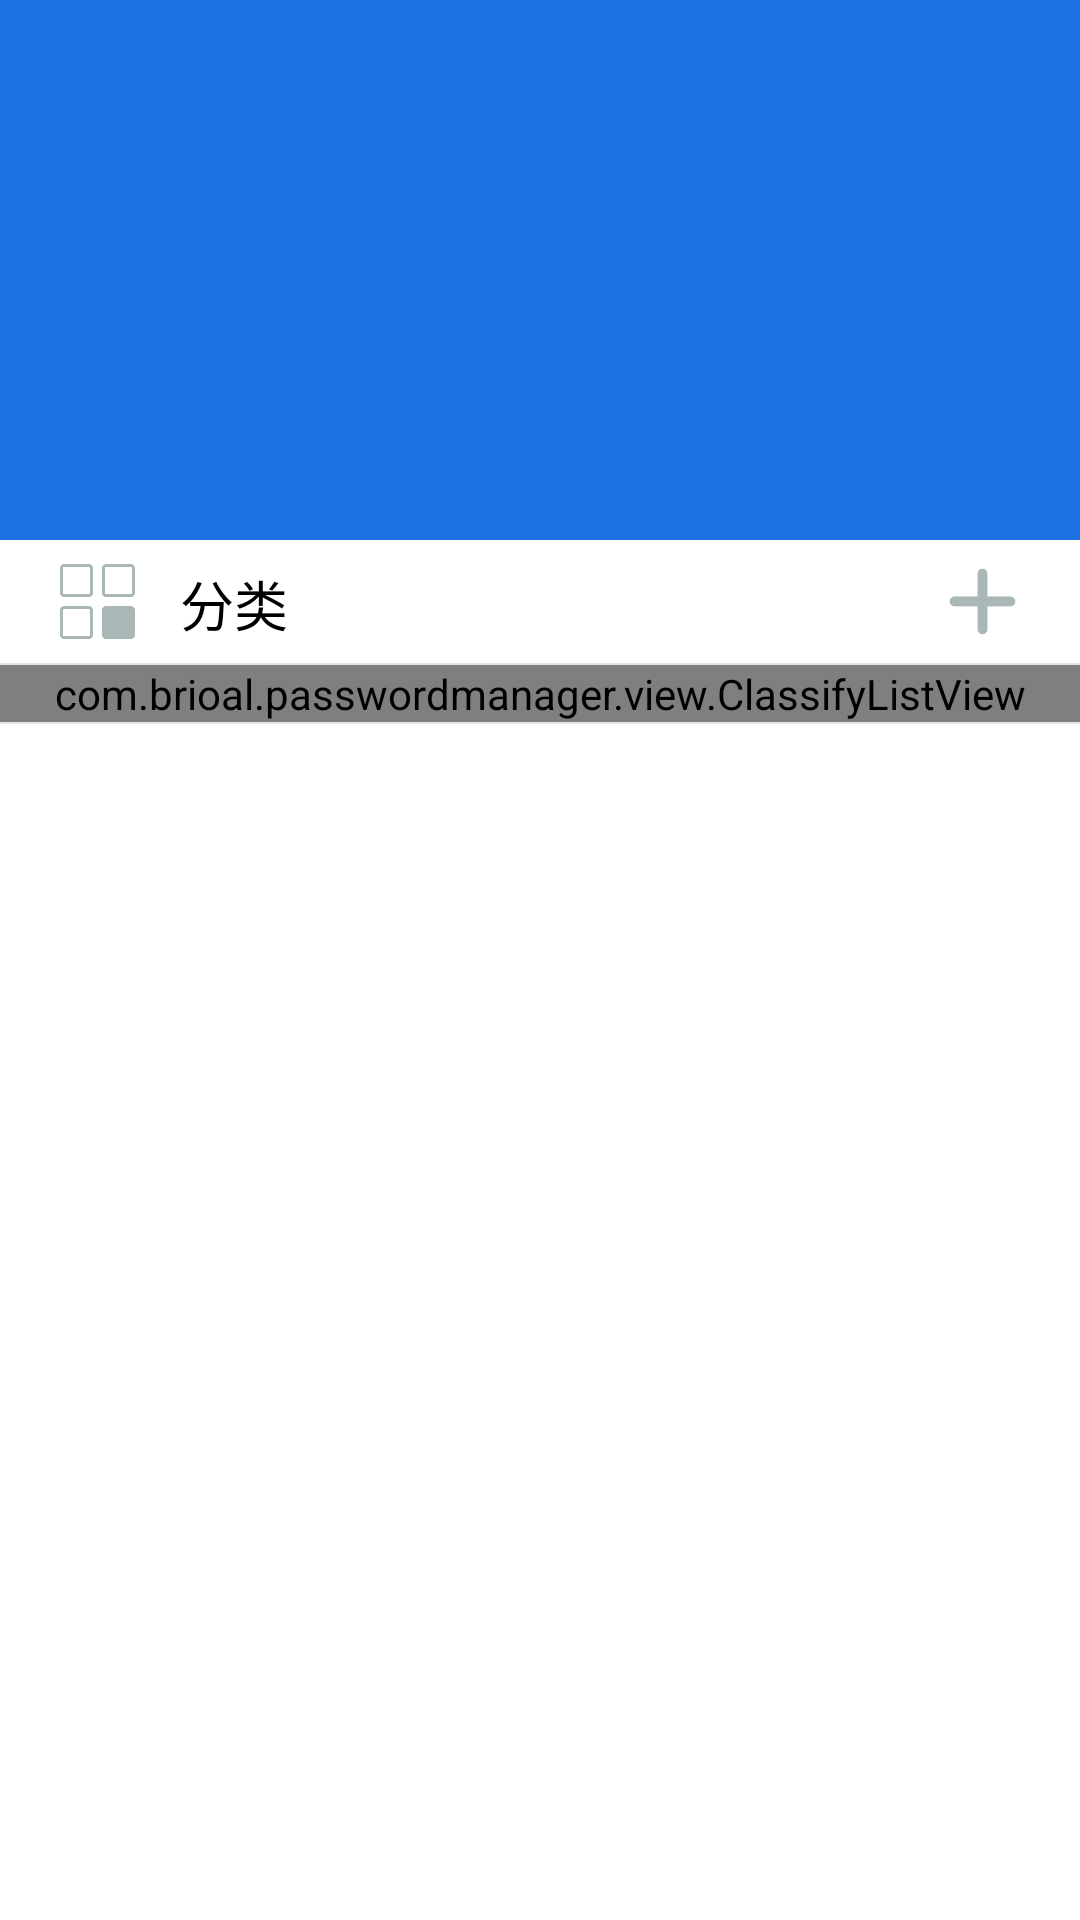

Named icons in this screenshot (1080px x 1920px) and their bounding boxes, [x1, y1, x2, y2]:
add: [950, 569, 1015, 634]
